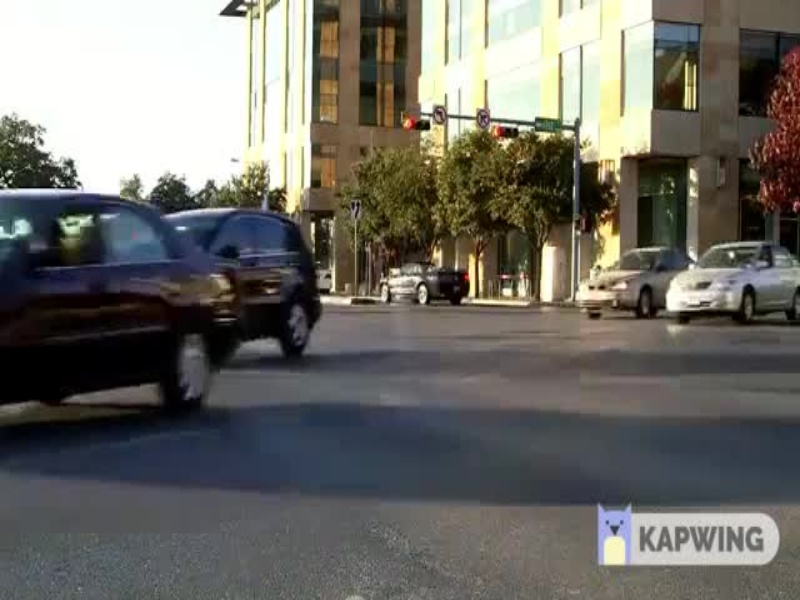car: (1, 217, 253, 419), (666, 243, 800, 321), (573, 235, 663, 329), (359, 248, 482, 309)
